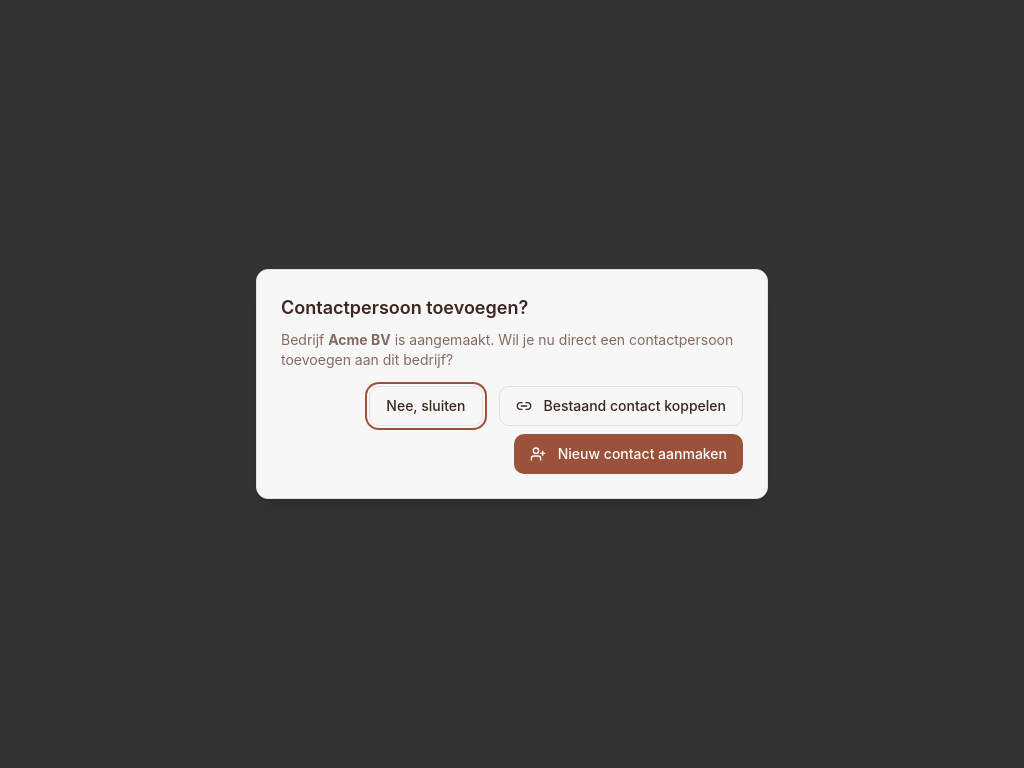
it: PostCompanyContactFlow › completes the full happy-path flow: ask → form → another → done
The image size is (1024, 768).
Later steps or results of the test are not shown.
Click the button "Nieuw contact aanmaken": [628, 454] box [514,434,743,474]
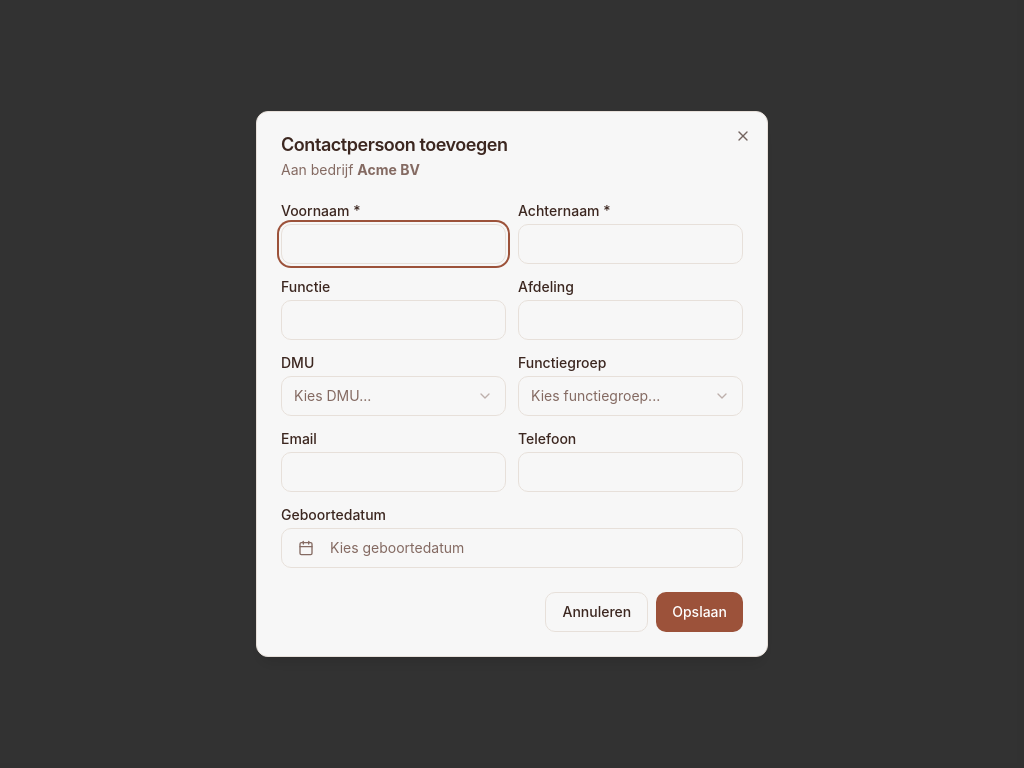
Expected: the heading "Contactpersoon toevoegen" is shown, [281,134,508,155]
In the field below "Voornaam *": [394, 244] box [281,224,506,264], type "Jan"
In the field below "Achternaam *": [630, 244] box [518,224,743,264], type "Jansen"
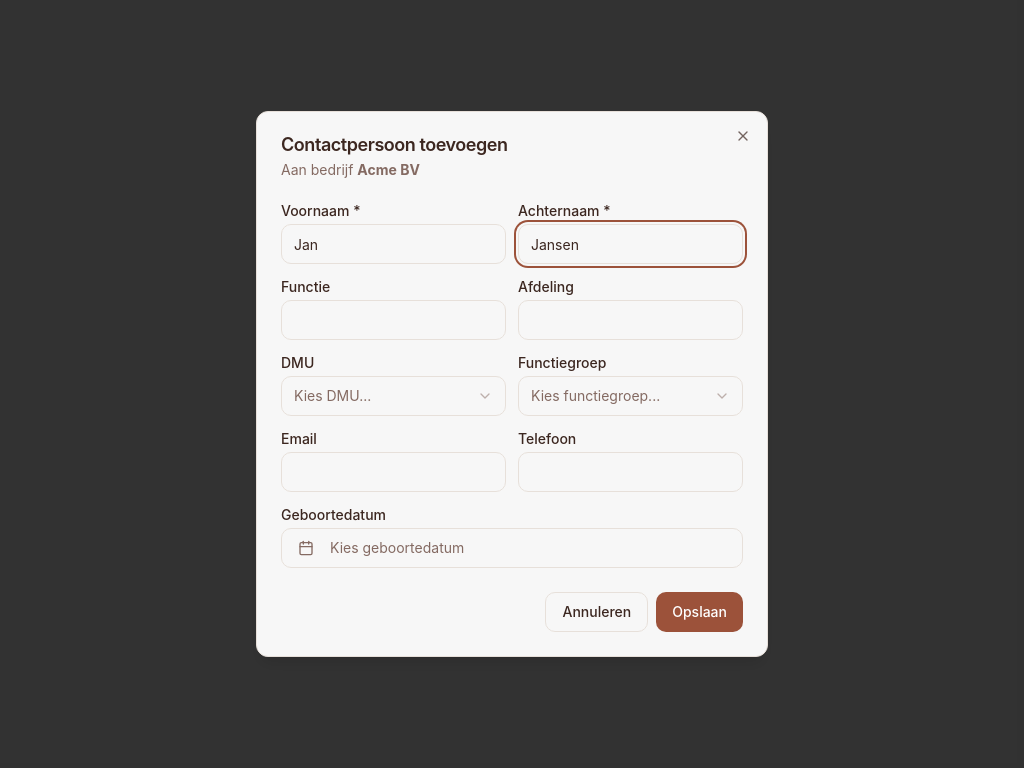
In the 3rd field: [394, 320] box [281,300,506,340], type "CEO"
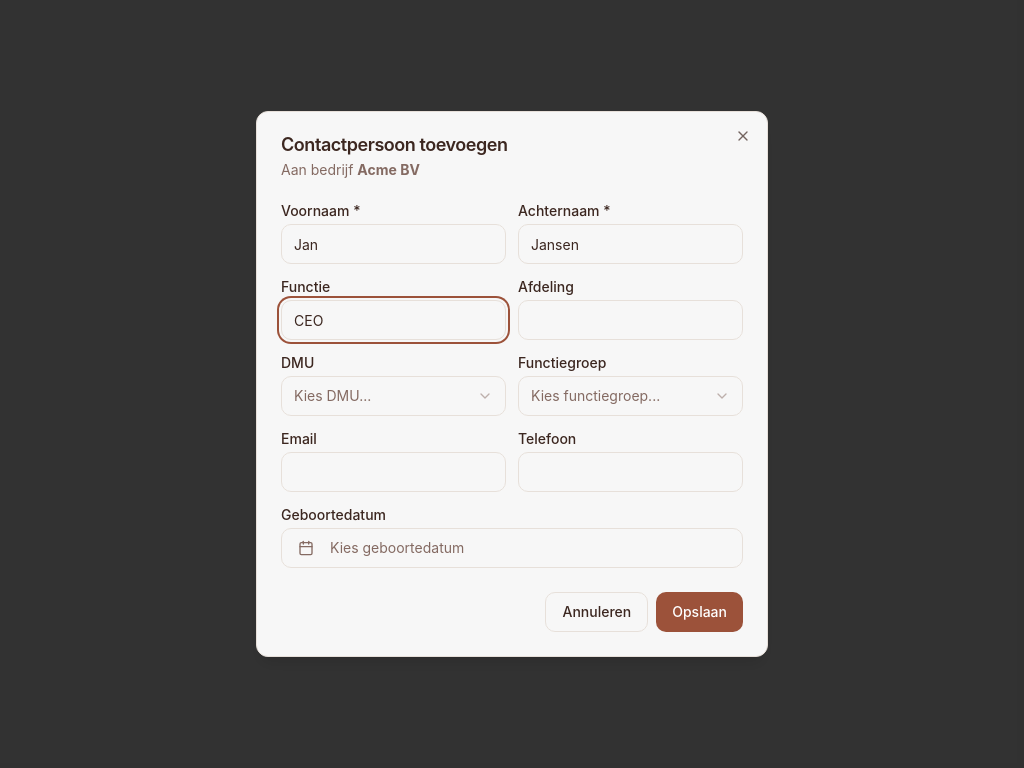
In the field below "Email": [394, 472] box [281,452,506,492], type "jan@acme.nl"
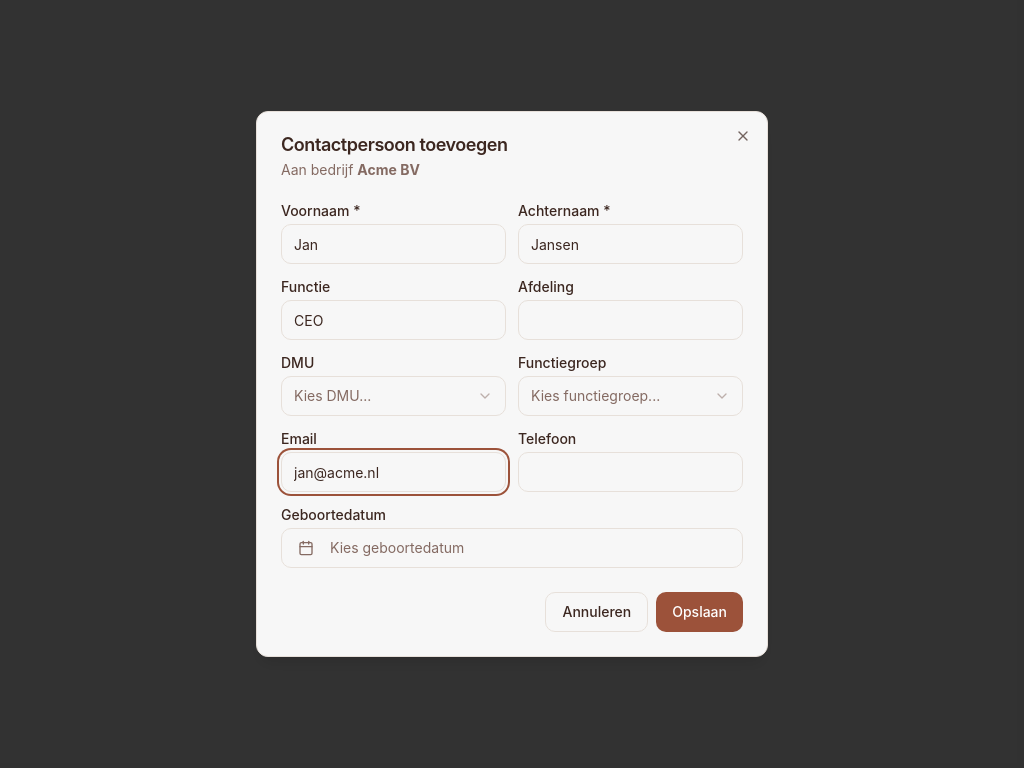
In the field below "Telefoon": [630, 472] box [518,452,743,492], type "0612345678"
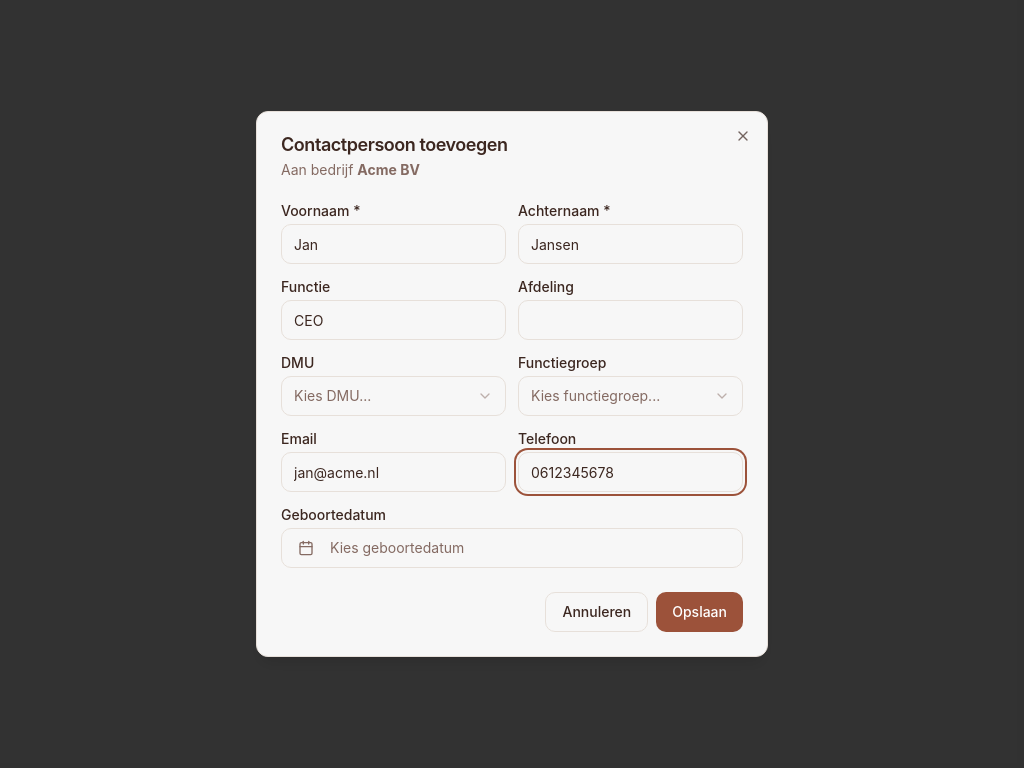
Click the button "Opslaan": [700, 612] box [656,592,743,632]
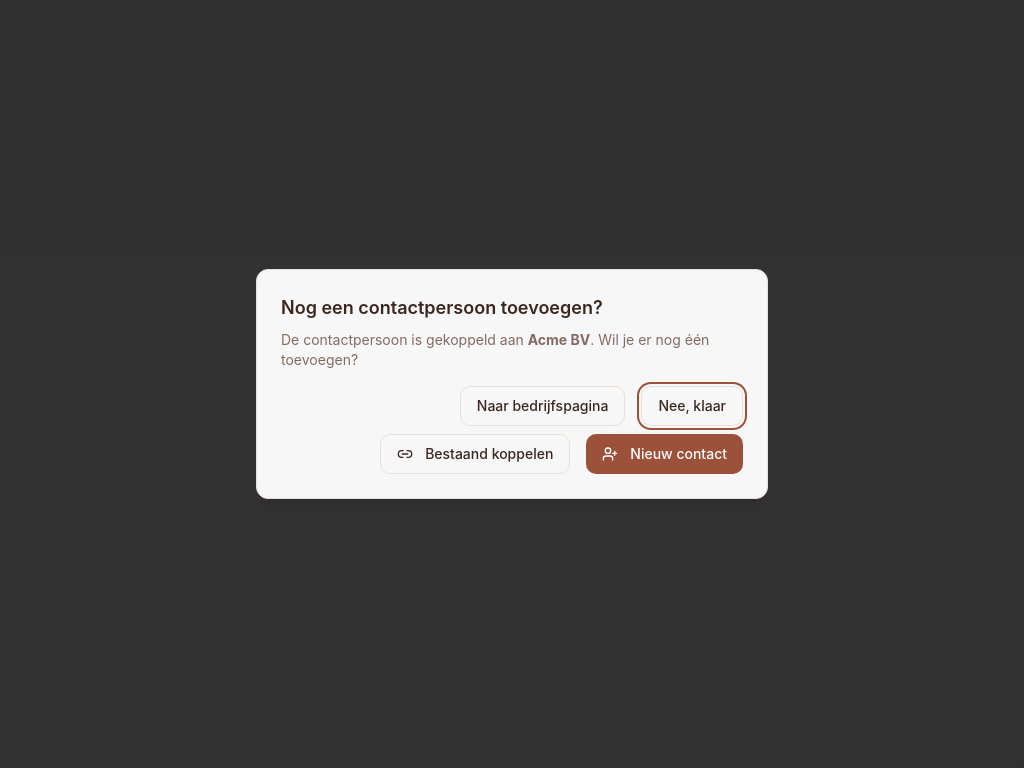
Expected: the heading "Nog een contactpersoon toevoegen?" is shown, [281,297,603,318]
